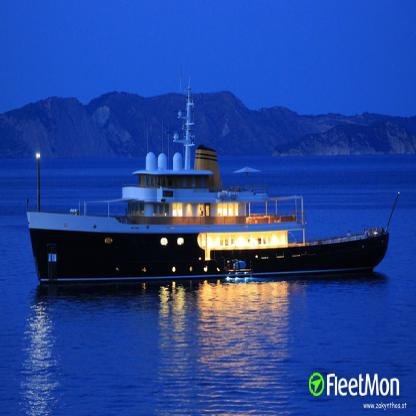Yacht: (25, 74, 400, 291)
